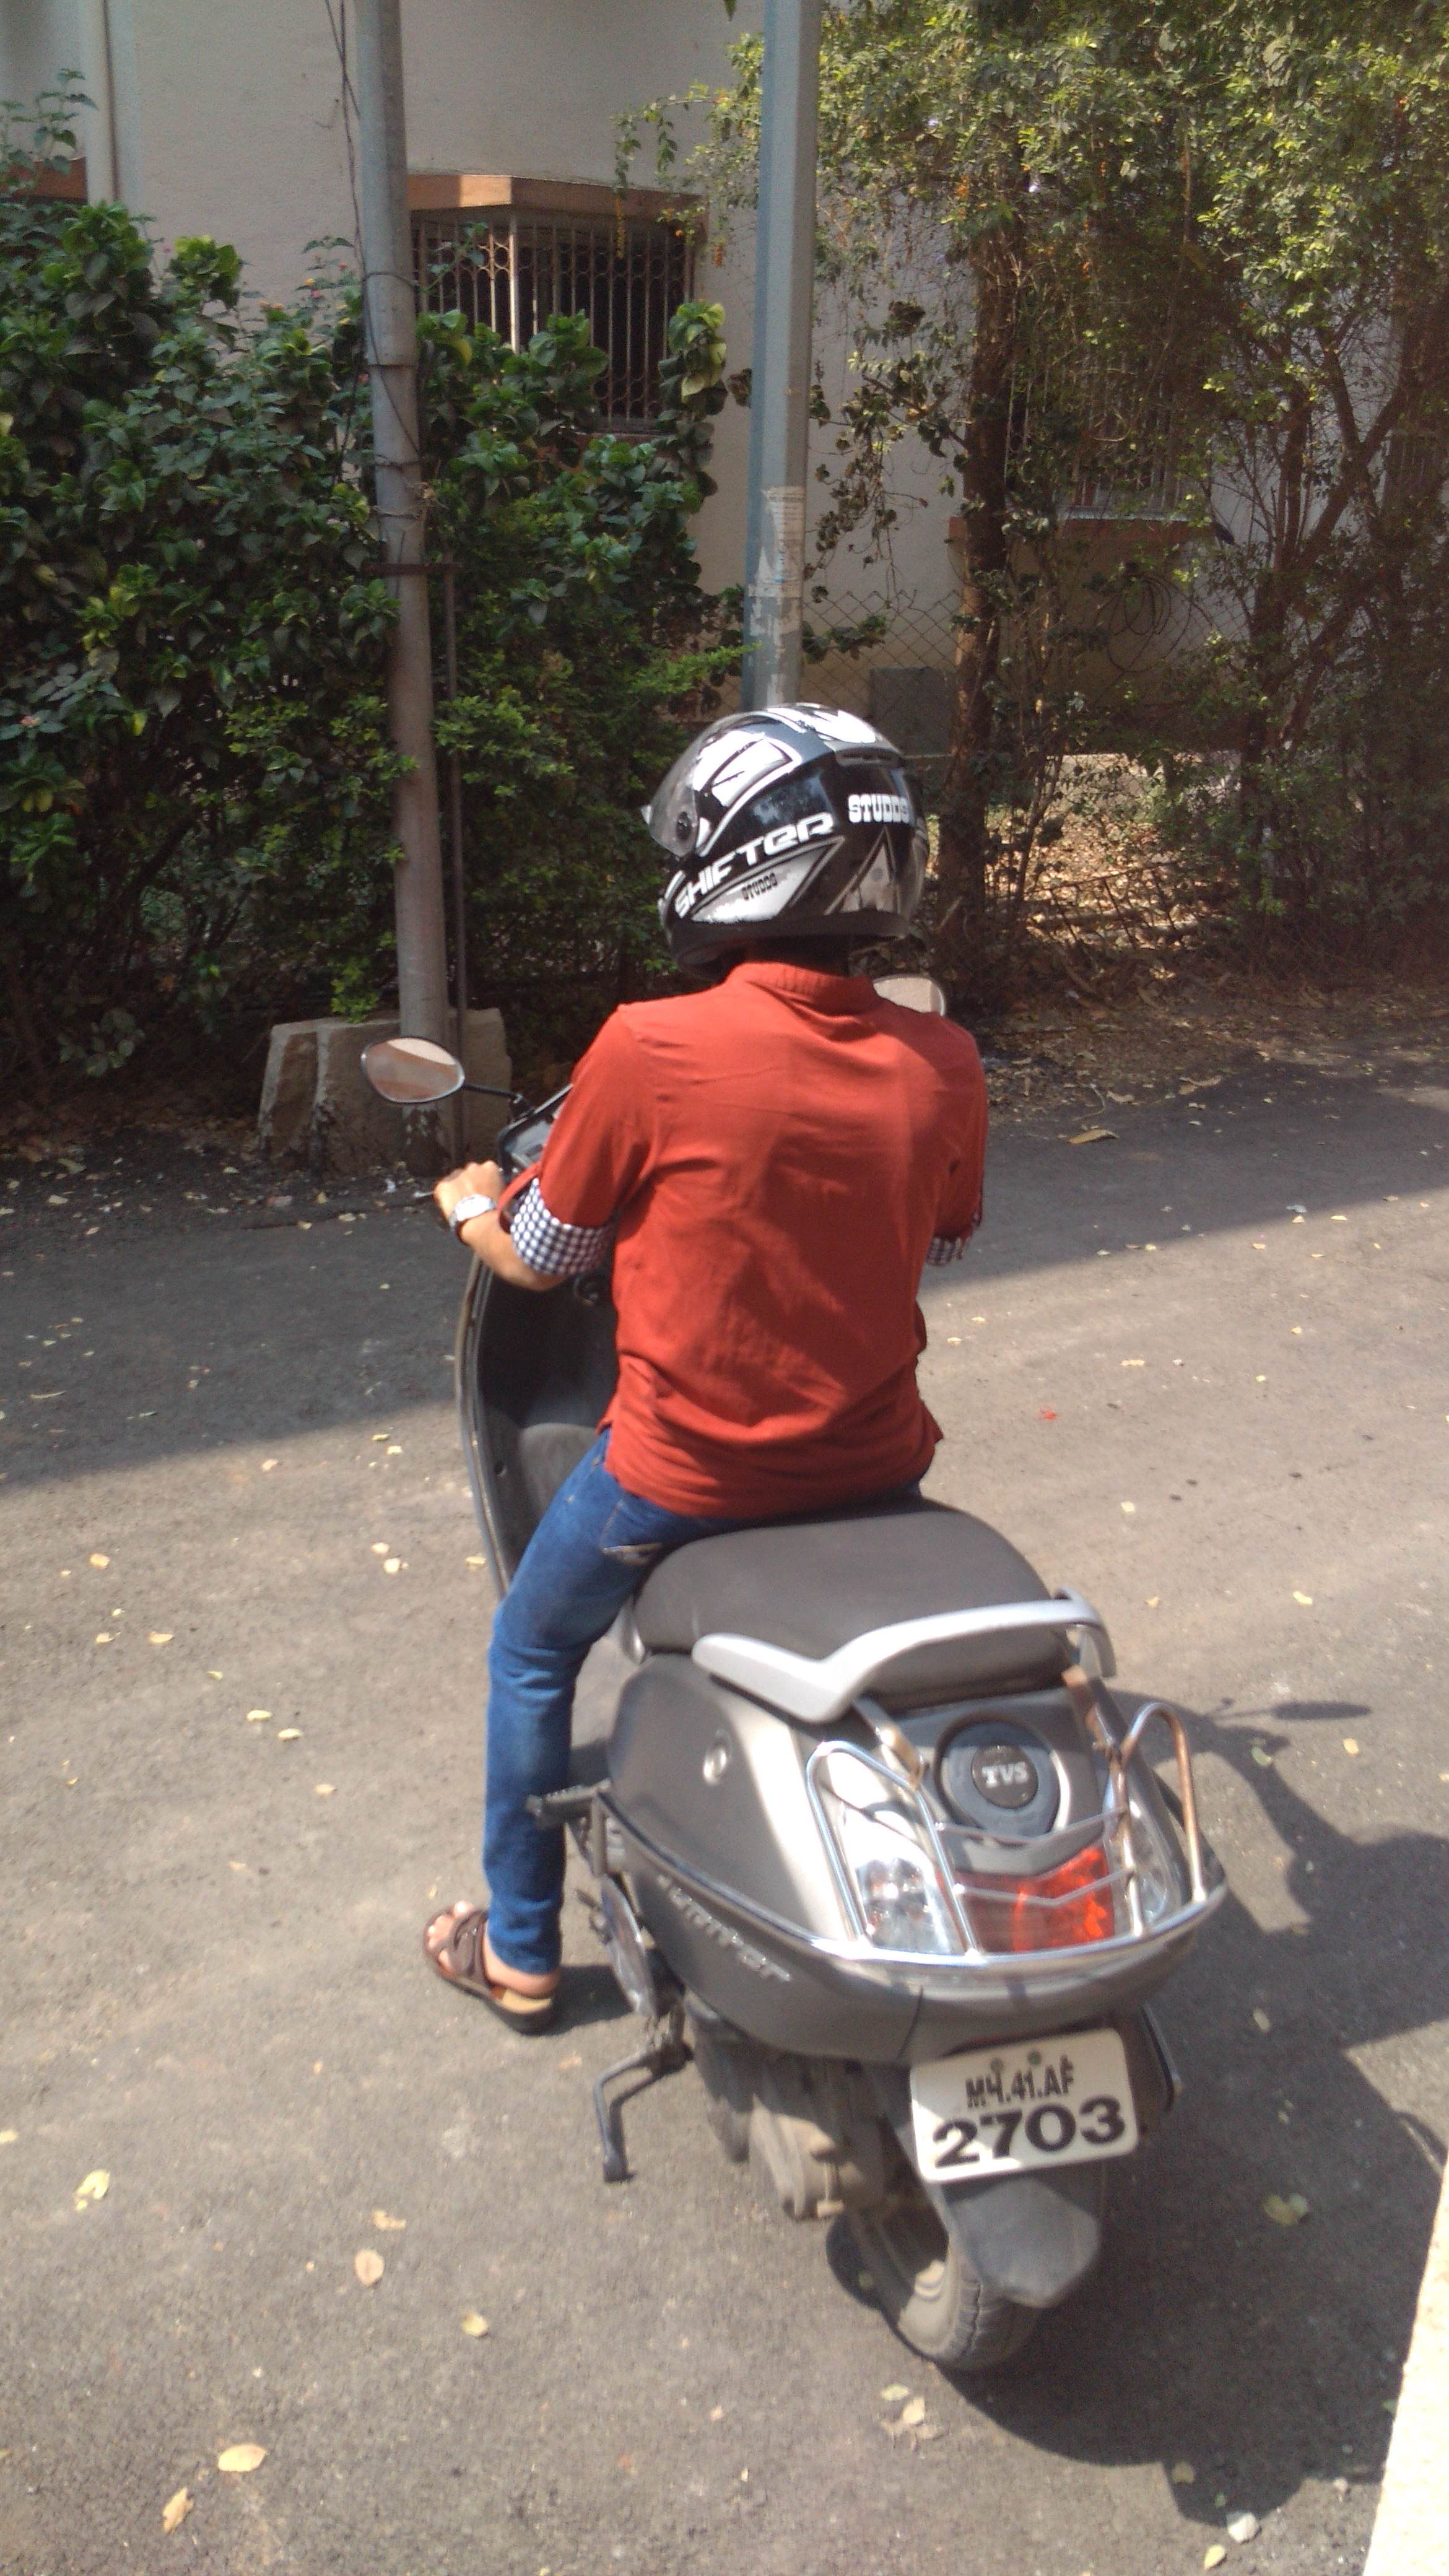helmet: (456, 632, 1076, 1833)
